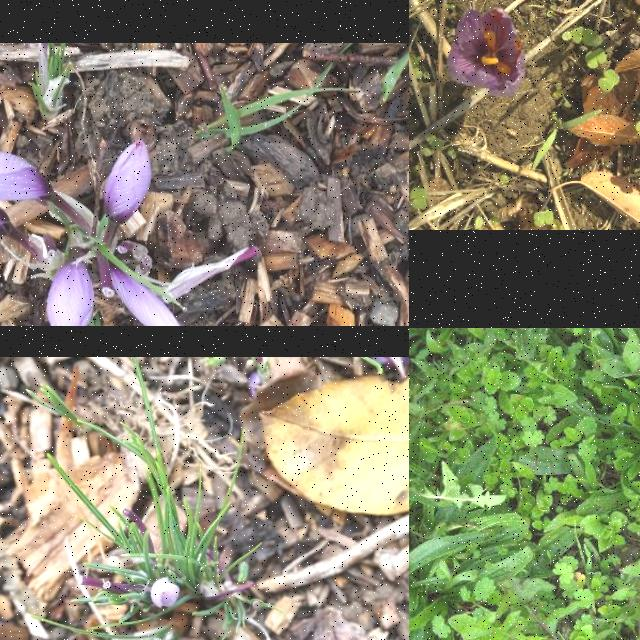flower: (447, 8, 525, 92), (111, 267, 190, 326), (101, 142, 150, 228), (45, 264, 94, 326), (0, 150, 58, 202), (150, 576, 180, 610)
